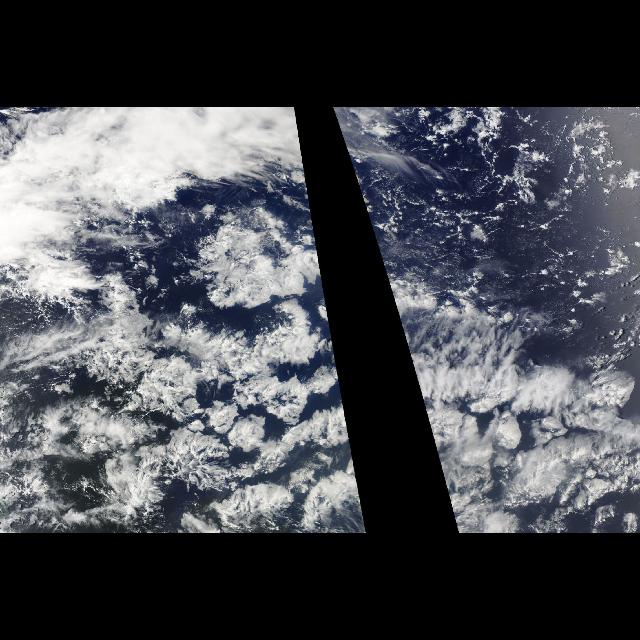Flower: (12, 201, 368, 534), (364, 201, 638, 534)
Gravel: (363, 107, 639, 359)
